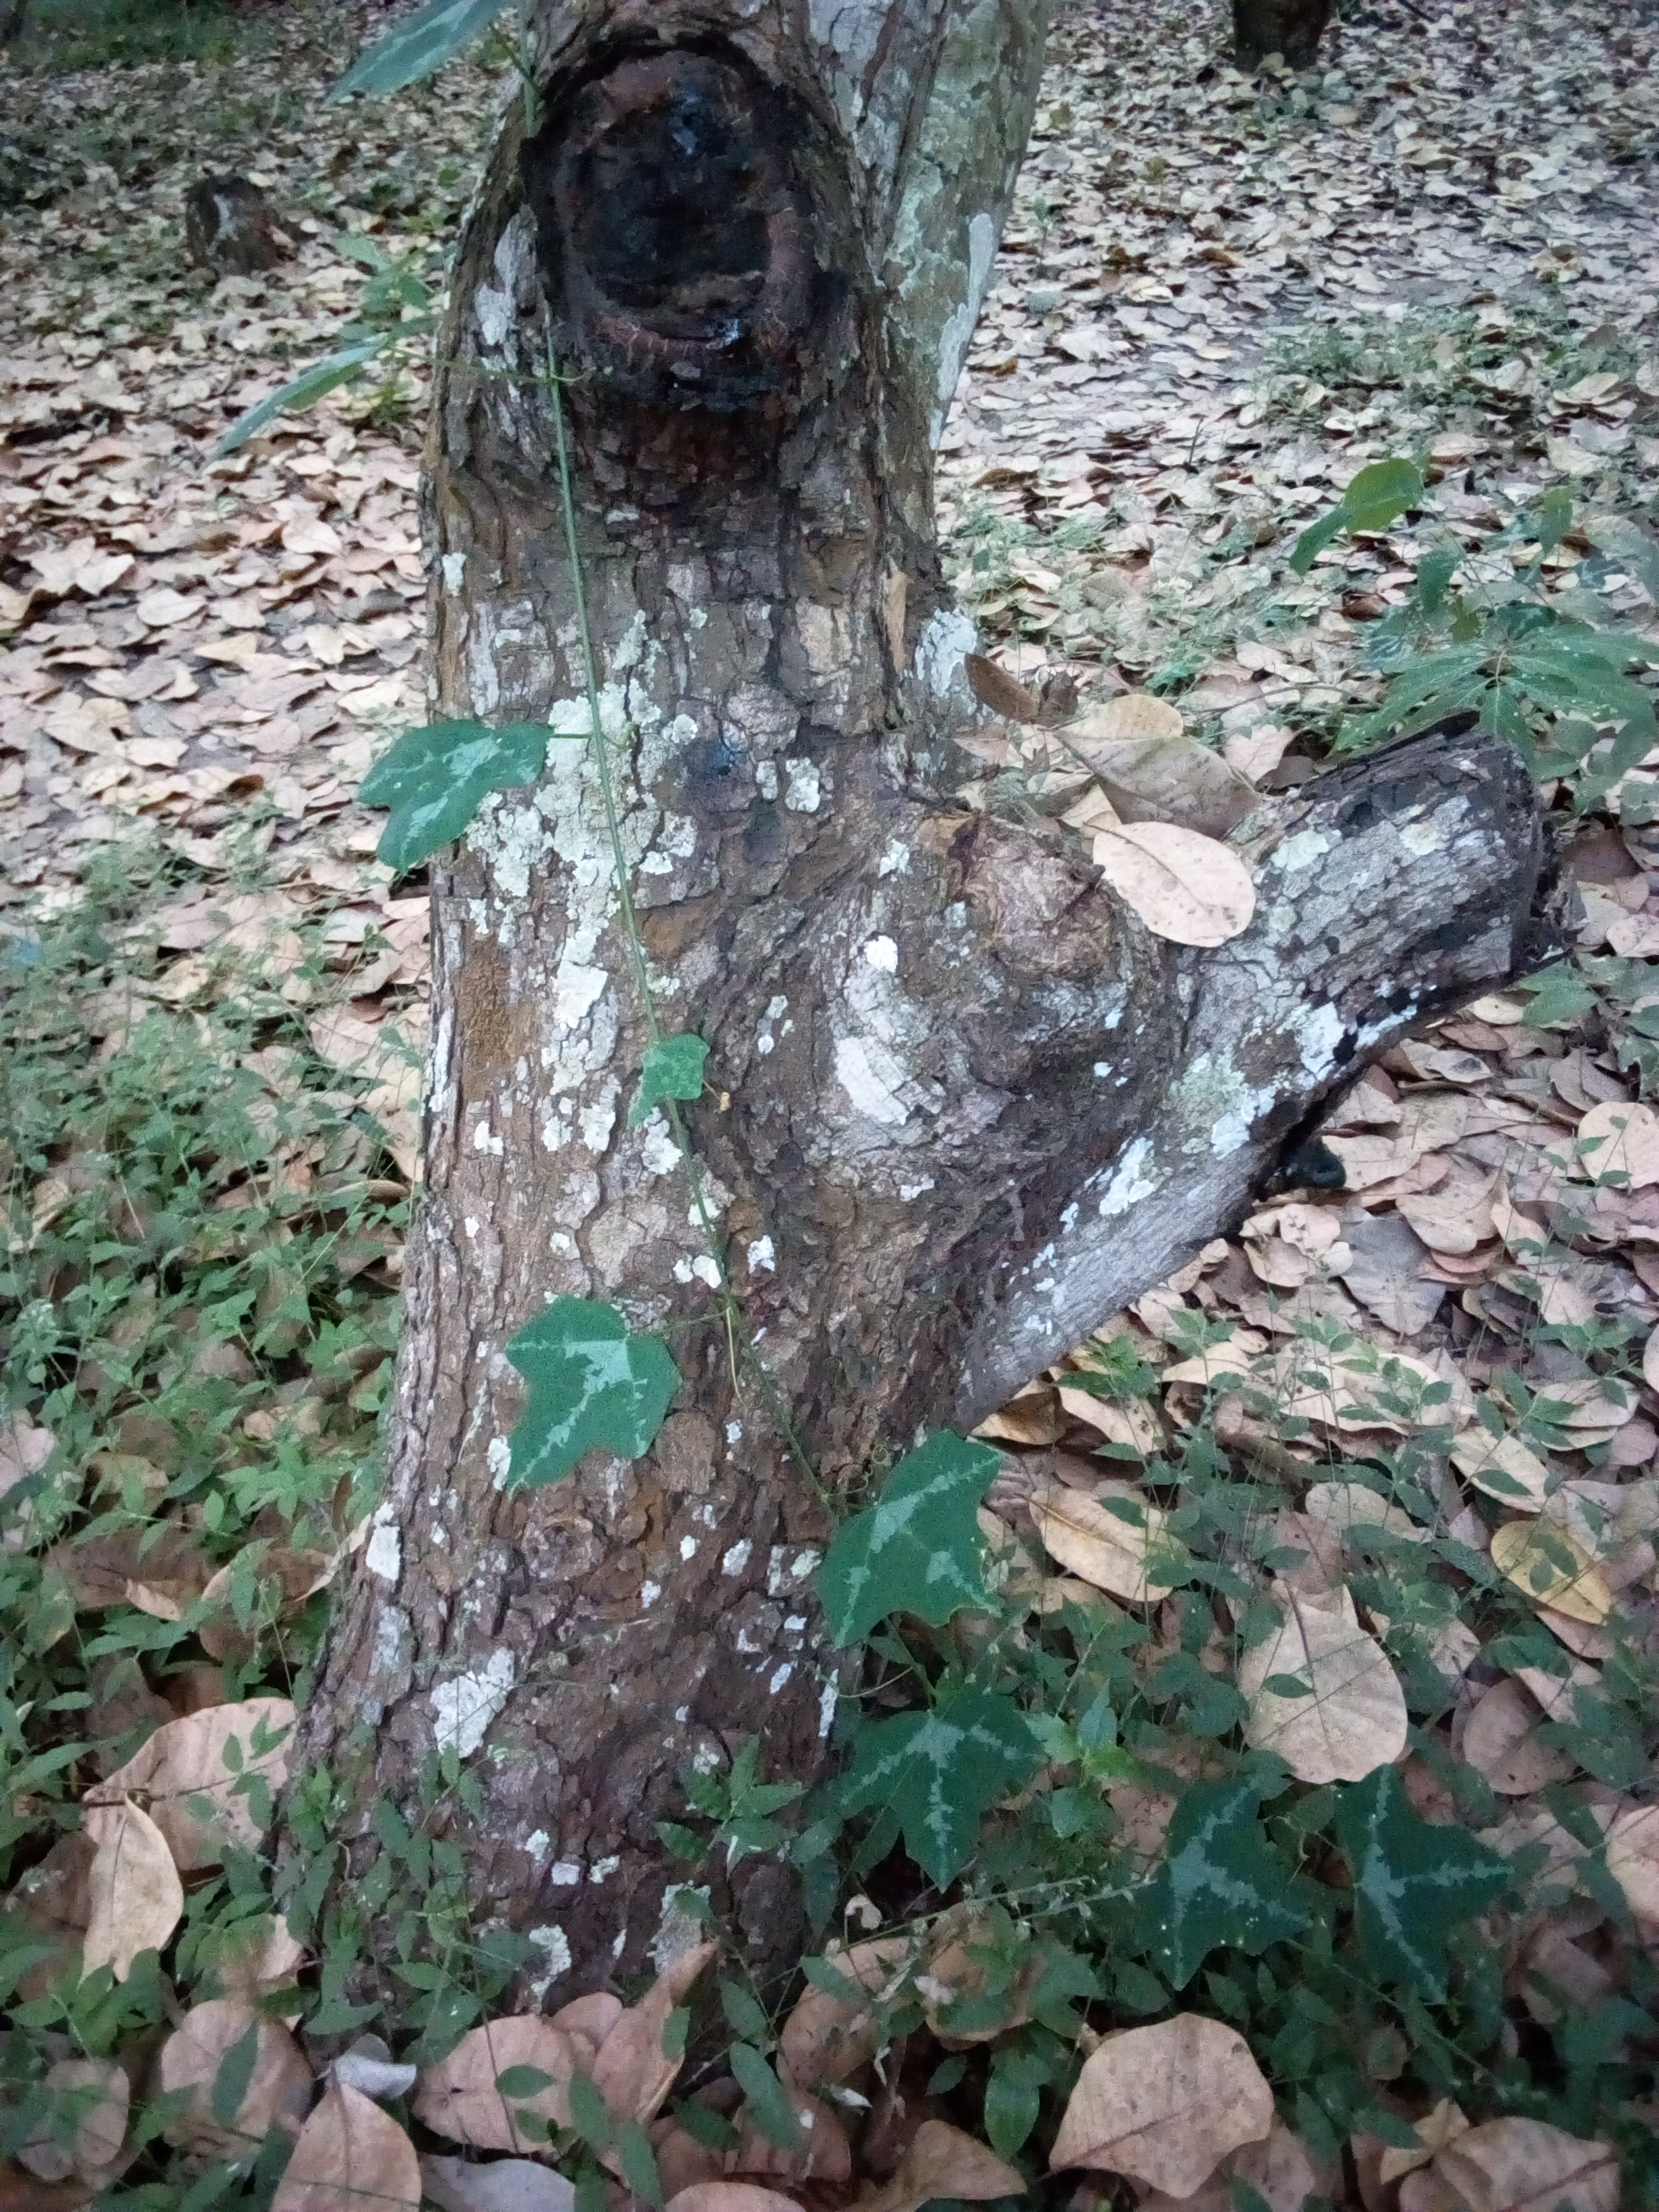ploceadorus ferrugineus: (488, 0, 976, 559)
